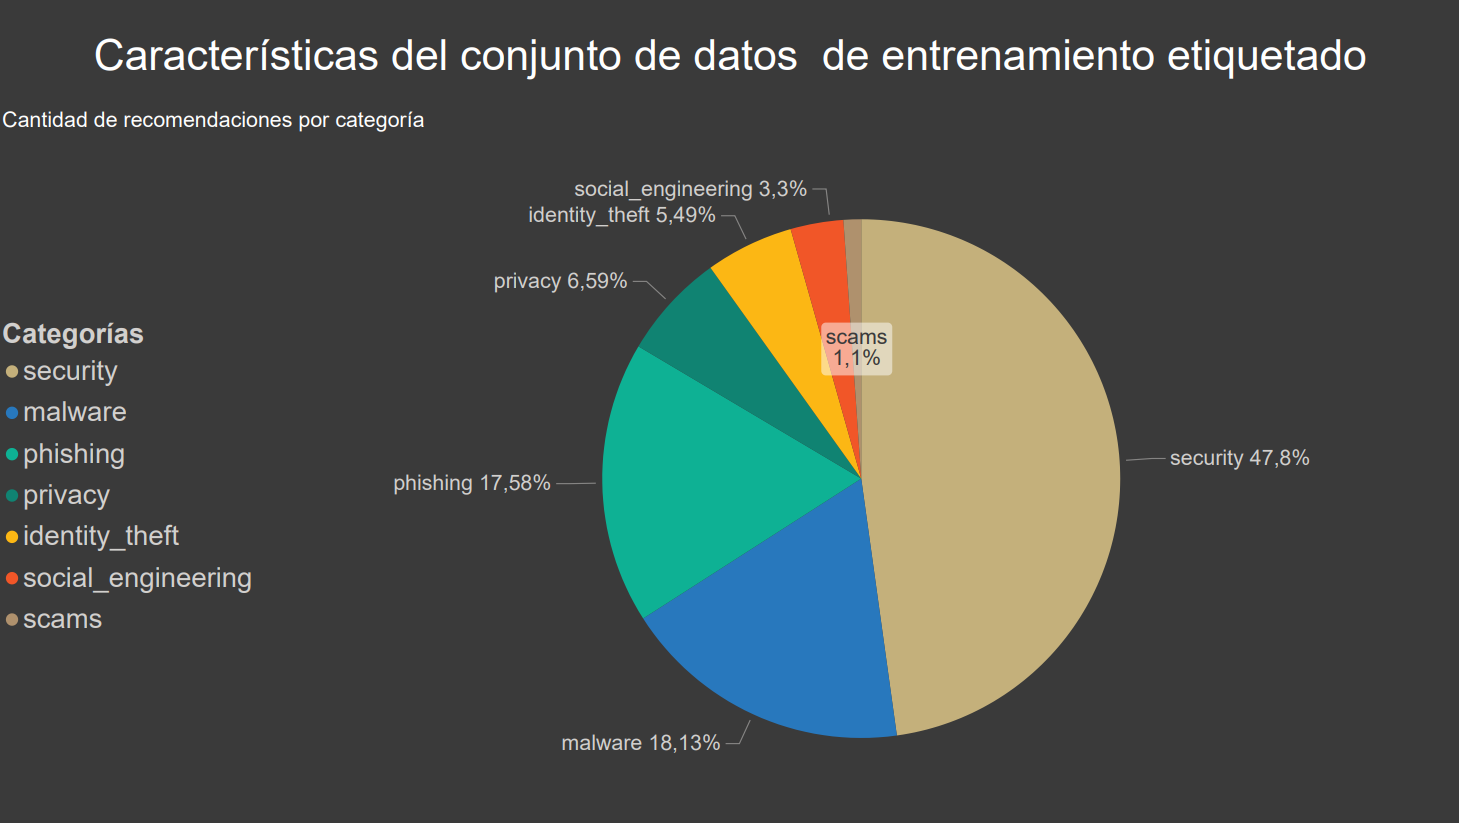

The dashboard page shown, as its layout file describes it:
{"tool":"powerbi","page":{"name":"Página 1","canvas":[1280,720],"ordinal":0},"visuals":[{"type":"pieChart","title":"Cantidad de recomendaciones por categoría","fields":{"Category":["textc.Categoría"],"Y":["CountNonNull(textc.Recomendación)"]},"box":[0,95,1280,625],"z":0},{"type":"textbox","box":[0,23.5,1280,72.1],"z":1000}]}

Visuals, with their boxes in screenshot pixels (x1, y1, x2, y2), scaled from the page's 1280x720 canvas onto the 1459x823 screenshot:
"Cantidad de recomendaciones por categoría" pieChart: bbox=(0, 109, 1458, 822)
textbox: bbox=(0, 27, 1458, 109)
